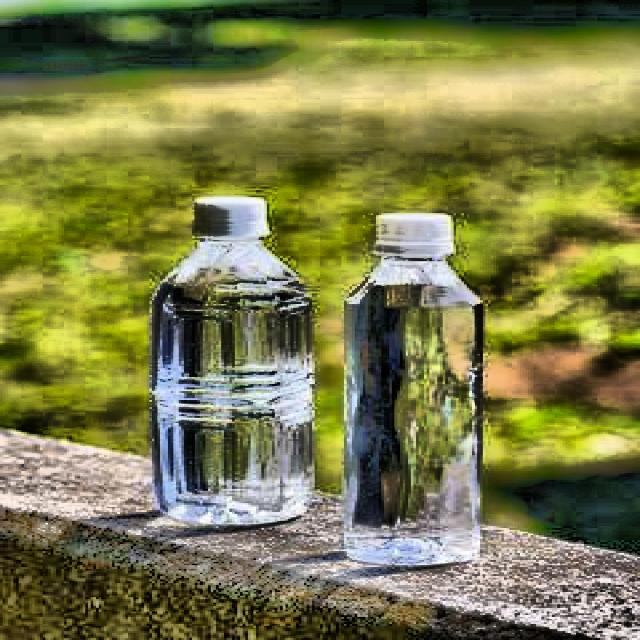Bottles: (131, 185, 320, 546), (335, 193, 504, 584)
